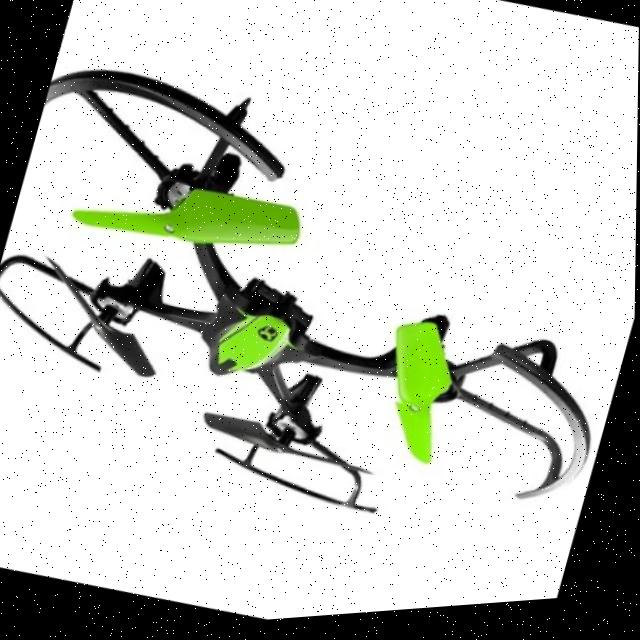drones: (0, 0, 640, 607)
